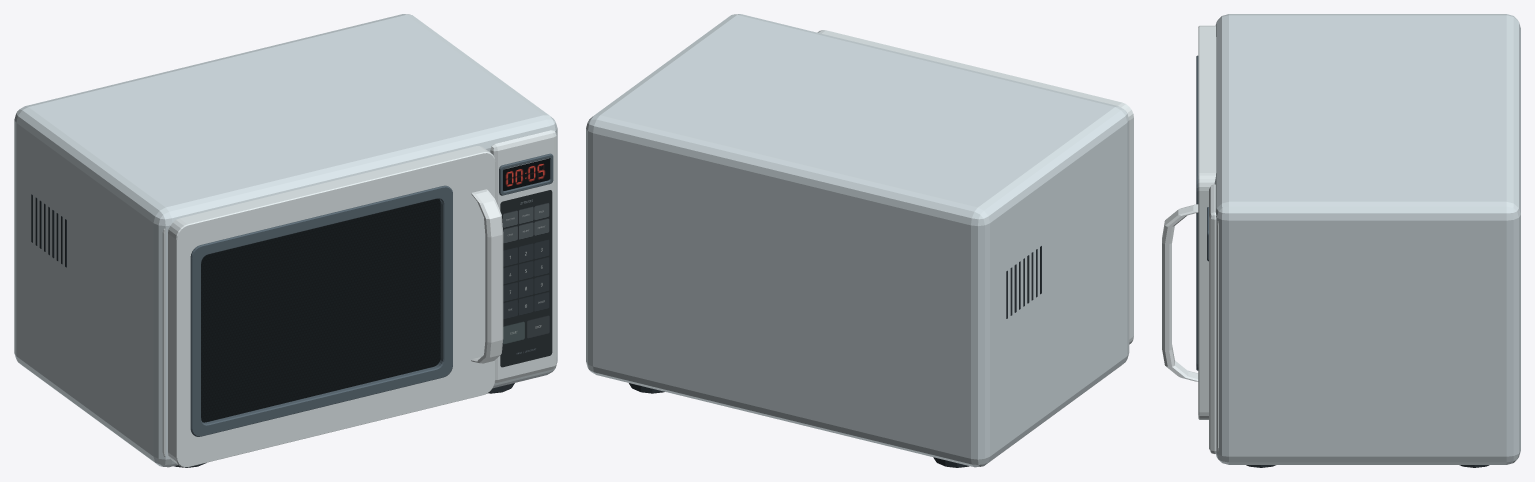
File: Microwave_Polished.fbx
3 views of the same model, side by side, from view 1: azimuth 30°, elevation 25°; view 2: azimuth 150°, elevation 25°; view 3: azimuth 270°, elevation 25° (orthographic).
Visible parts, largest first — view 1: Unified enamel casing.001, Perforated smoked window.002, Door outer frame.002, Window chamfer.002, Keypad surface.002, Control fascia.002, Sculpted handle.002, Front aperture.002, Flat red display.002, Display rim.002; view 2: Unified enamel casing.001, Door outer frame.002; view 3: Unified enamel casing.001, Door outer frame.002, Sculpted handle.002, Control fascia.002, Window chamfer.002, Front aperture.002.
Boxes of the visible parts, left/top/right/bottom form: Unified enamel casing.001: left=14, top=14, right=557, bottom=467; Perforated smoked window.002: left=201, top=199, right=440, bottom=422; Door outer frame.002: left=168, top=146, right=495, bottom=467; Window chamfer.002: left=190, top=185, right=452, bottom=436; Keypad surface.002: left=500, top=190, right=552, bottom=367; Control fascia.002: left=490, top=130, right=556, bottom=382; Sculpted handle.002: left=471, top=189, right=503, bottom=363; Front aperture.002: left=162, top=133, right=556, bottom=456; Flat red display.002: left=503, top=158, right=549, bottom=190; Display rim.002: left=499, top=153, right=553, bottom=195; Unified enamel casing.001: left=586, top=14, right=1129, bottom=467; Door outer frame.002: left=817, top=30, right=1133, bottom=344; Unified enamel casing.001: left=1214, top=14, right=1520, bottom=464; Door outer frame.002: left=1198, top=25, right=1216, bottom=419; Sculpted handle.002: left=1162, top=204, right=1198, bottom=381; Control fascia.002: left=1209, top=184, right=1216, bottom=453; Window chamfer.002: left=1196, top=55, right=1198, bottom=370; Front aperture.002: left=1217, top=221, right=1218, bottom=450.
Size of the model in its own units: 66.15 by 42.55 by 50.4.
